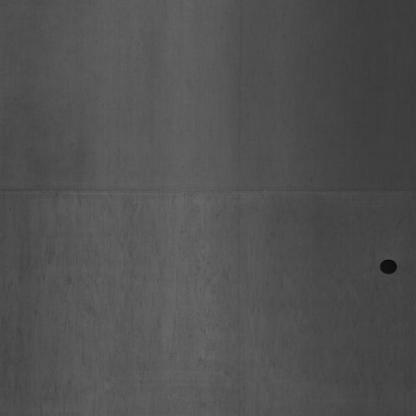punching_hole: (377, 255, 399, 277)
welding_line: (0, 177, 415, 205)
